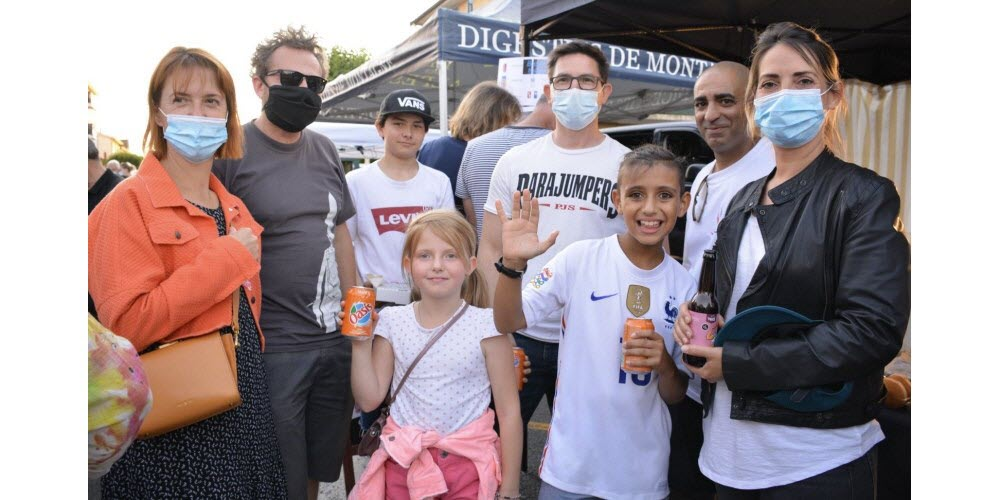with_mask: (750, 40, 837, 144), (157, 74, 233, 155), (258, 48, 322, 131), (547, 60, 611, 137)
without_mask: (614, 169, 678, 250), (414, 240, 465, 303), (693, 83, 736, 153), (386, 107, 425, 157)
